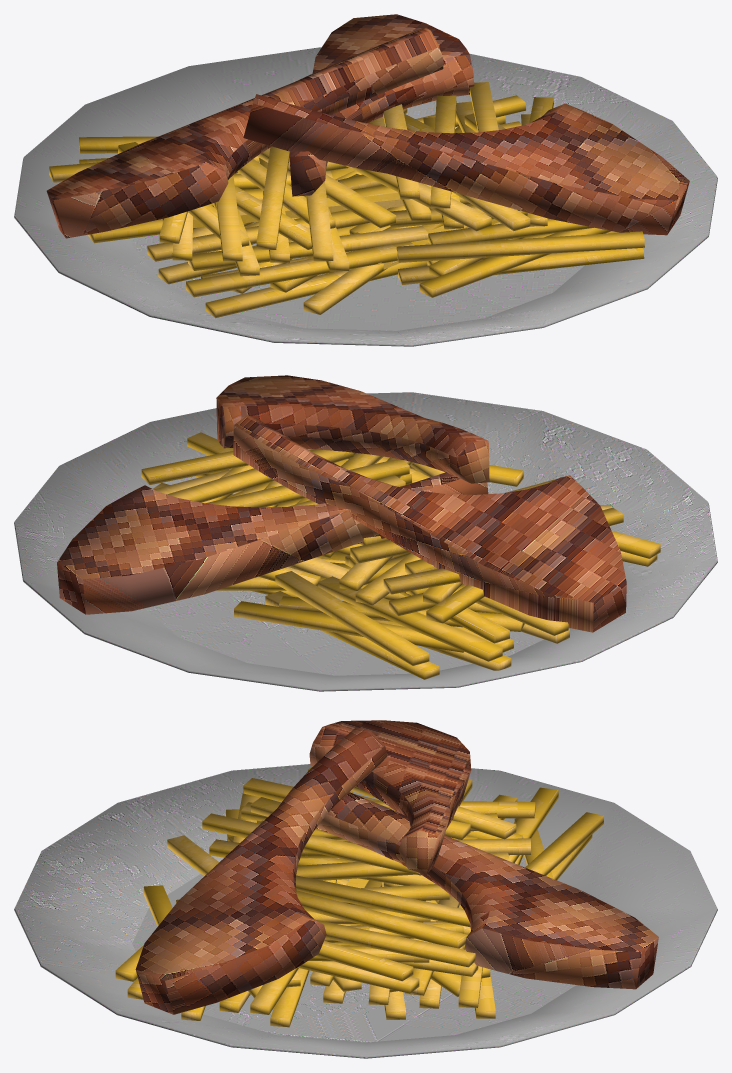
Rendered from Plato1.fbx.
The picture shows the model from 3 angles, top to bottom: view 1: azimuth 30°, elevation 25°; view 2: azimuth 150°, elevation 25°; view 3: azimuth 270°, elevation 25°; orthographic projection.
Visible parts, largest first — view 1: SM_SlowSlicedCalf; view 2: SM_SlowSlicedCalf; view 3: SM_SlowSlicedCalf.
Boxes of the visible parts, x1=… form: SM_SlowSlicedCalf: x1=14, y1=14, x2=717, y2=346; SM_SlowSlicedCalf: x1=14, y1=375, x2=717, y2=691; SM_SlowSlicedCalf: x1=14, y1=720, x2=717, y2=1058.
Size of the model in its own units: 213 by 54.28 by 213.
3 materials, 3 textured.
